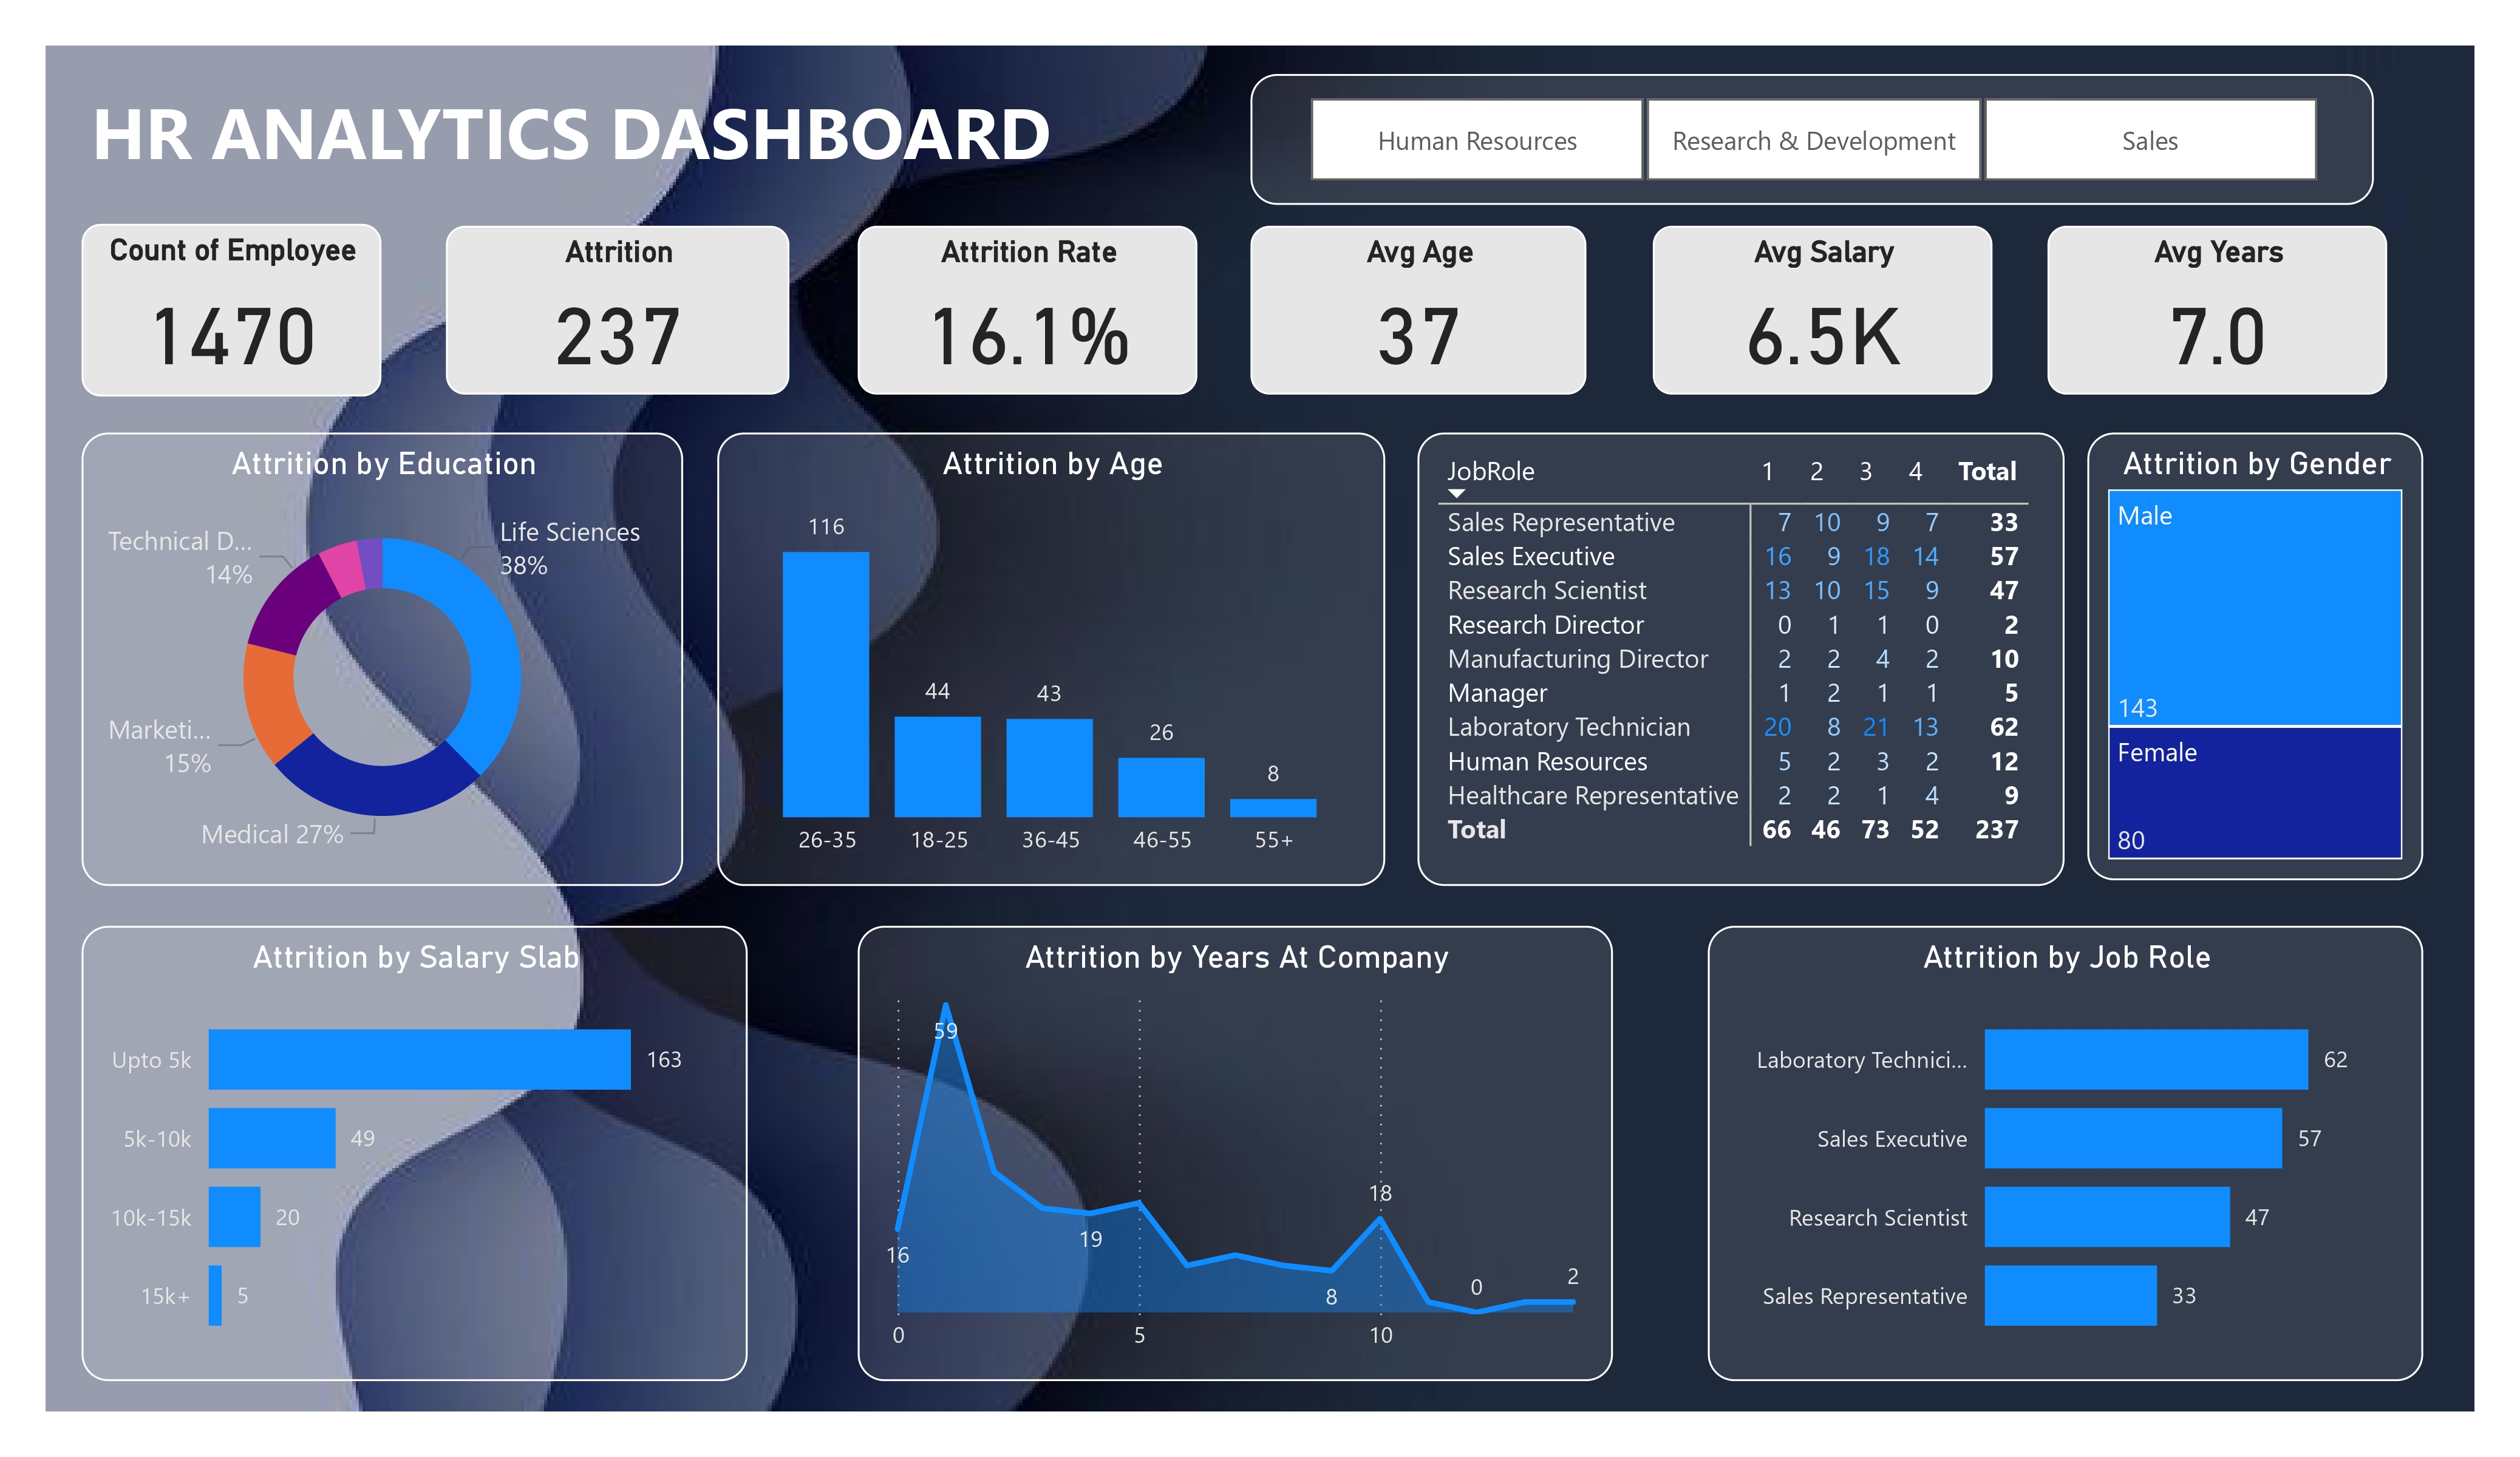

Layout of this report page (visuals, bound fields, positions):
{"tool":"powerbi","page":{"name":"Page 1","canvas":[1280,720],"ordinal":0},"visuals":[{"type":"card","title":"Count of Employee","fields":{"Values":["CountNonNull(HR_Analytics.EmpID)"]},"box":[18.6,94.3,158.6,90],"z":0},{"type":"card","title":"Attrition","fields":{"Values":["Sum(HR_Analytics.Attriition_count)"]},"box":[211.3,94.7,181.1,89.2],"z":1000},{"type":"card","title":"Avg Age","fields":{"Values":["Avg(HR_Analytics.Age)"]},"box":[635.3,94.7,177,89.2],"z":2000},{"type":"card","title":"Attrition Rate","fields":{"Values":["HR_Analytics.AttritionRate"]},"box":[428.1,94.7,178.4,89.2],"z":3000},{"type":"card","title":"Avg Salary","fields":{"Values":["Avg(HR_Analytics.MonthlyIncome)"]},"box":[846.7,94.7,179.8,89.2],"z":4000},{"type":"card","title":"Avg Years","fields":{"Values":["Avg(HR_Analytics.YearsAtCompany)"]},"box":[1055.2,94.7,178.4,89.2],"z":5000},{"type":"donutChart","title":"Attrition by Education","fields":{"Category":["HR_Analytics.EducationField"],"Y":["Sum(HR_Analytics.Attriition_count)"]},"box":[18.6,204.3,317.1,238.6],"z":6000},{"type":"columnChart","title":"Attrition by Age","fields":{"Category":["HR_Analytics.AgeGroup"],"Y":["Sum(HR_Analytics.Attriition_count)"]},"box":[354.3,204.3,351.4,238.6],"z":7000},{"type":"pivotTable","fields":{"Rows":["HR_Analytics.JobRole"],"Columns":["HR_Analytics.JobSatisfaction"],"Values":["Sum(HR_Analytics.Attriition_count)"]},"box":[722.9,204.3,341.4,238.6],"z":8000},{"type":"barChart","title":"Attrition by Salary Slab","fields":{"Category":["HR_Analytics.SalarySlab"],"Y":["Sum(HR_Analytics.Attriition_count)"]},"box":[19.2,463.8,351.3,240.1],"z":9000},{"type":"barChart","title":"Attrition by Job Role","fields":{"Category":["HR_Analytics.JobRole"],"Y":["Sum(HR_Analytics.Attriition_count)"]},"box":[875.7,464.3,377.1,240],"z":10000},{"type":"areaChart","title":"Attrition by Years At Company","fields":{"Category":["HR_Analytics.YearsAtCompany"],"Y":["Sum(HR_Analytics.Attriition_count)"]},"box":[428.1,463.8,397.9,240.1],"z":11000},{"type":"treemap","title":"Attrition by Gender","fields":{"Group":["HR_Analytics.Gender"],"Values":["Sum(HR_Analytics.Attriition_count)"]},"box":[1075.7,204.3,177.1,235.7],"z":12000},{"type":"slicer","fields":{"Values":["HR_Analytics.Department"]},"box":[635,14.8,592.2,69.4],"z":13000},{"type":"textbox","box":[19.2,14.8,587.7,69.4],"z":14000}]}

Visuals, with their boxes in screenshot pixels (x1, y1, x2, y2):
"Count of Employee" card: left=69, top=222, right=377, bottom=397
"Attrition" card: left=443, top=223, right=795, bottom=396
"Avg Age" card: left=1266, top=223, right=1610, bottom=396
"Attrition Rate" card: left=864, top=223, right=1210, bottom=396
"Avg Salary" card: left=1677, top=223, right=2026, bottom=396
"Avg Years" card: left=2082, top=223, right=2428, bottom=396
"Attrition by Education" donutChart: left=69, top=436, right=684, bottom=899
"Attrition by Age" columnChart: left=721, top=436, right=1403, bottom=899
pivotTable - HR_Analytics.JobRole x HR_Analytics.JobSatisfaction: left=1436, top=436, right=2099, bottom=899
"Attrition by Salary Slab" barChart: left=70, top=940, right=752, bottom=1405
"Attrition by Job Role" barChart: left=1733, top=940, right=2465, bottom=1407
"Attrition by Years At Company" areaChart: left=864, top=940, right=1636, bottom=1405
"Attrition by Gender" treemap: left=2121, top=436, right=2465, bottom=894
slicer - HR_Analytics.Department: left=1265, top=68, right=2416, bottom=203
textbox: left=70, top=68, right=1211, bottom=203
